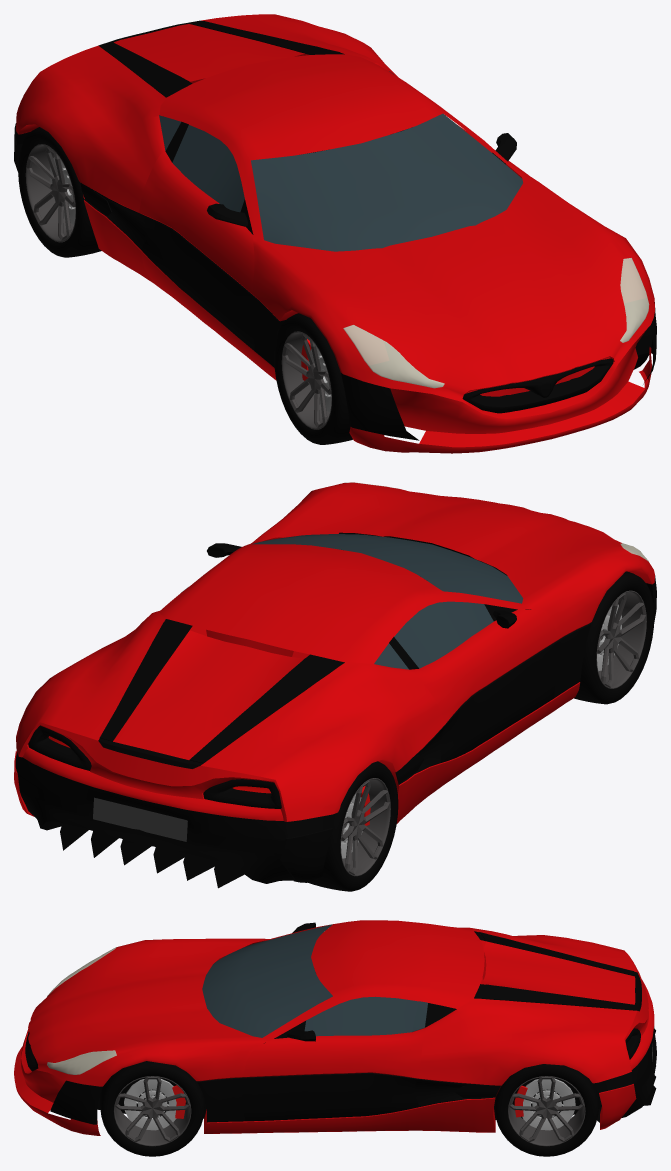
Rendered from rimac-concept-one-high.glb.
3 views of the same model, one above another, from view 1: azimuth 30°, elevation 25°; view 2: azimuth 150°, elevation 25°; view 3: azimuth 270°, elevation 25° (orthographic). The views are drawn at different scales.
Parts seen in each view (by area): view 1: body, wheel_front_right, wheel_rear_right; view 2: body, wheel_front_right, wheel_rear_right; view 3: body, wheel_front_left, wheel_rear_left.
Part boxes in pixels (bbox=[...]): body: bbox=[14, 14, 656, 453]; wheel_front_right: bbox=[274, 313, 352, 444]; wheel_rear_right: bbox=[18, 127, 101, 257]; body: bbox=[14, 482, 656, 888]; wheel_front_right: bbox=[574, 571, 654, 704]; wheel_rear_right: bbox=[308, 761, 398, 891]; body: bbox=[14, 920, 656, 1135]; wheel_front_left: bbox=[100, 1061, 205, 1156]; wheel_rear_left: bbox=[494, 1064, 599, 1156].
Bounding box in the file's own units: 1.88 × 1.09 × 4.2.
